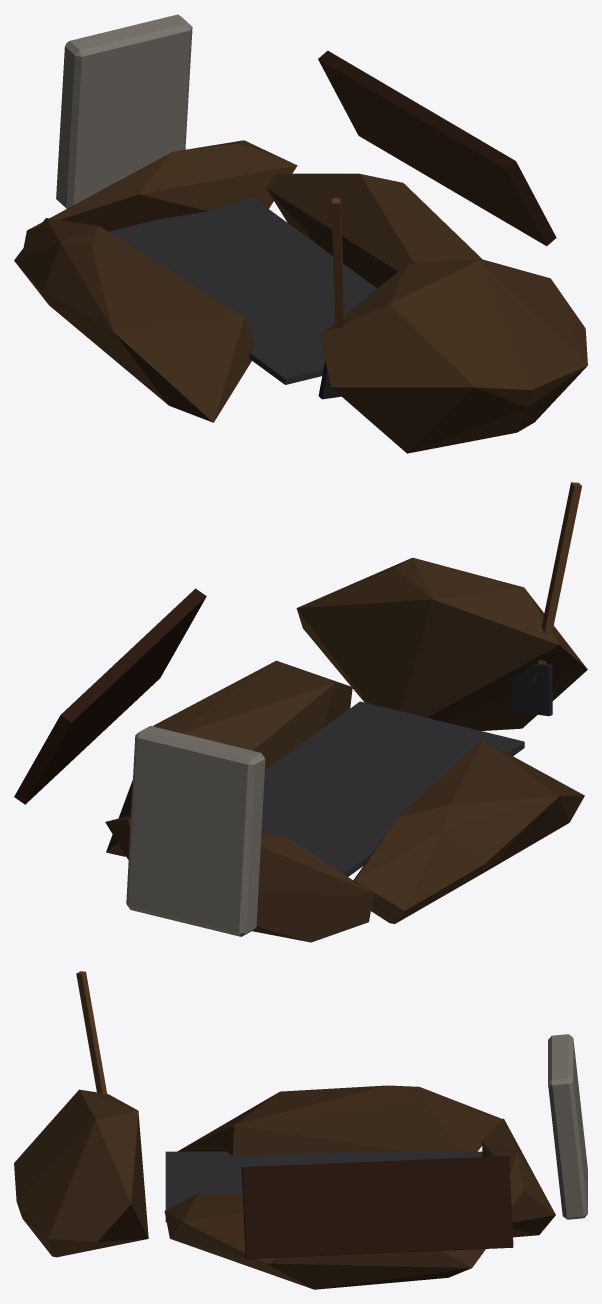
The model's file is tumba_abierta.fbx.
3 renders of one model, top to bottom at view 1: azimuth 30°, elevation 25°; view 2: azimuth 150°, elevation 25°; view 3: azimuth 270°, elevation 25°, orthographic. The views are drawn at different scales.
Parts seen in each view (by area): view 1: tumba_abierta; view 2: tumba_abierta; view 3: tumba_abierta.
Boxes of the visible parts, box(x1,y1,x2,y2) form: tumba_abierta: box(14, 14, 587, 453); tumba_abierta: box(14, 482, 587, 942); tumba_abierta: box(14, 971, 587, 1289).
Size of the model in its own units: 2.88 by 1.71 by 4.07.
